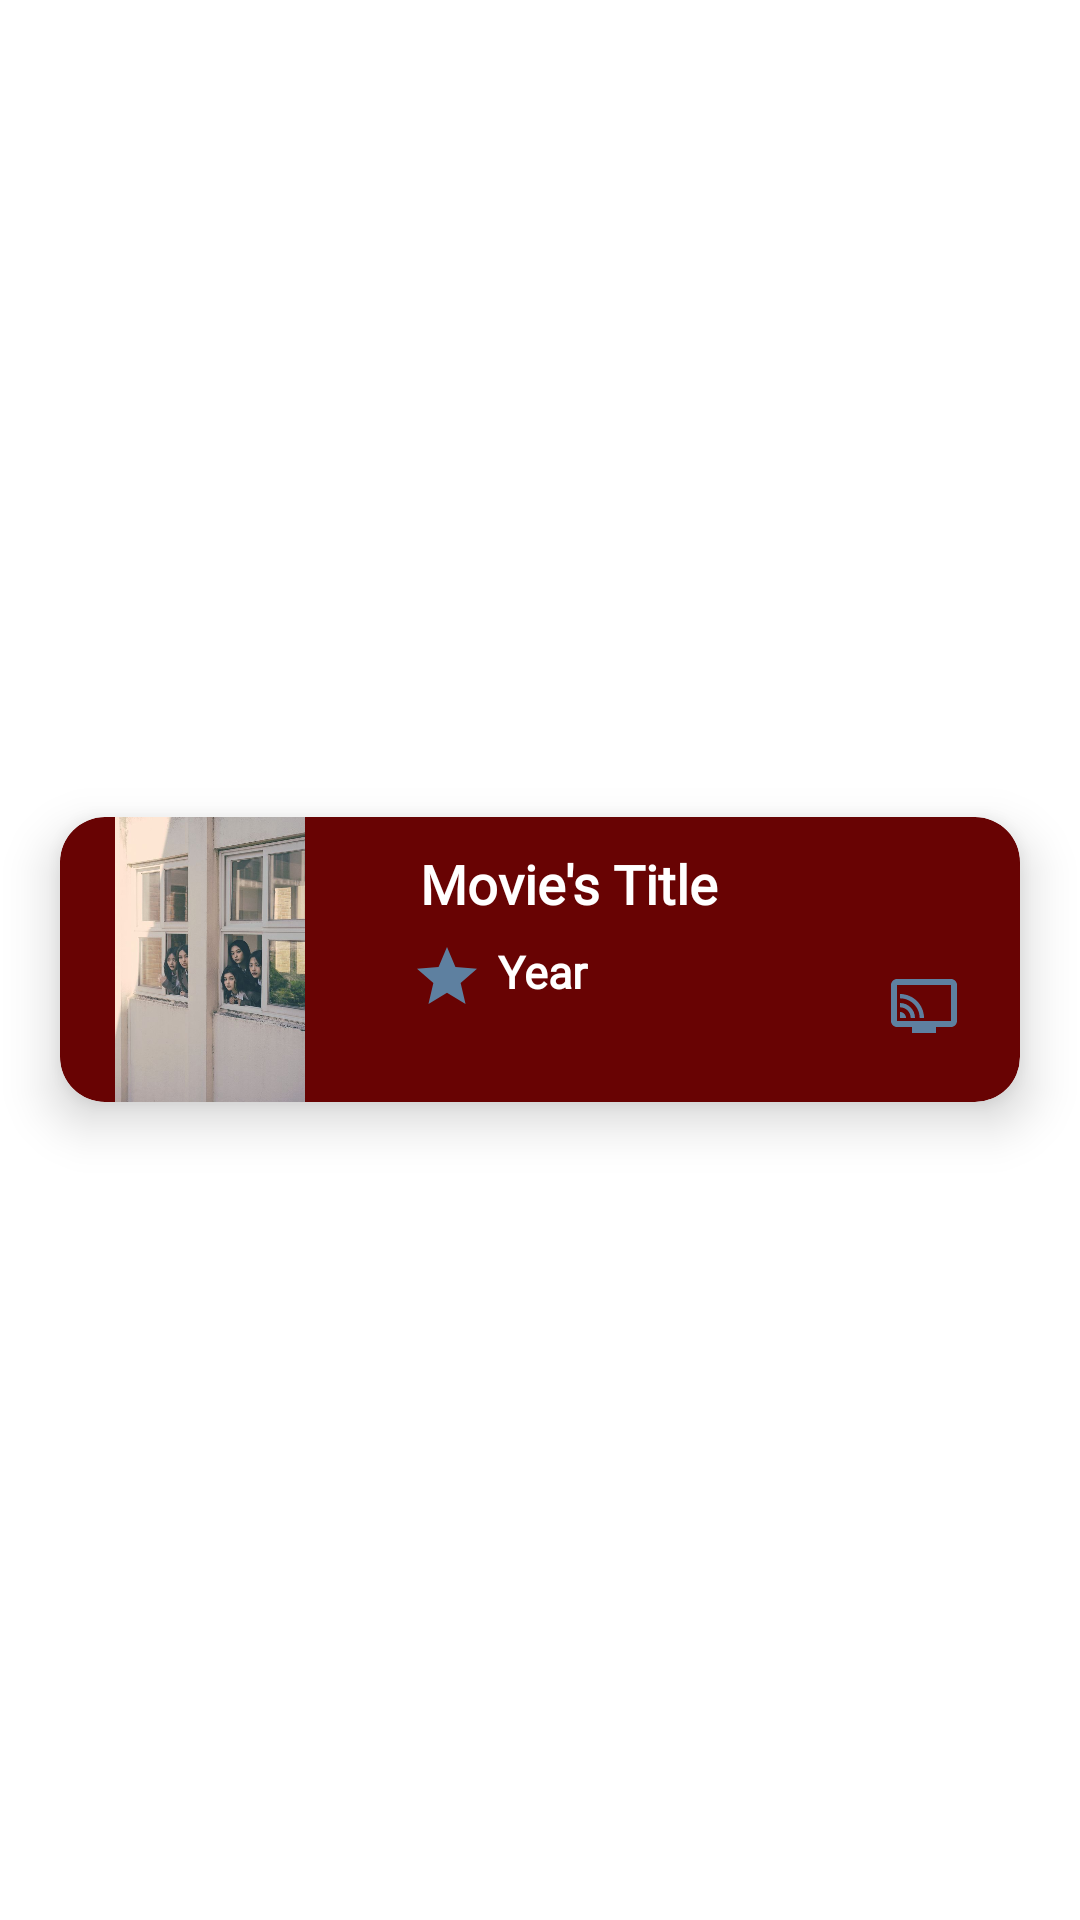

Where to tap for icons on this 1080px×1920px app screen, as point (x, y):
connected tv: point (924, 1006)
star: point (447, 975)
